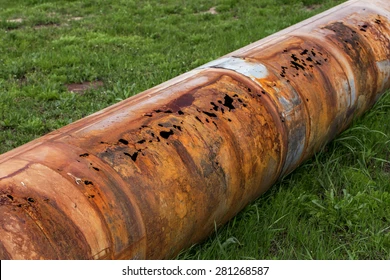hole: (301, 44, 330, 69), (220, 89, 243, 111), (121, 148, 147, 165), (286, 50, 305, 72), (341, 37, 364, 52), (173, 117, 190, 135), (274, 64, 291, 82), (206, 97, 224, 112), (158, 128, 178, 141), (114, 133, 132, 147), (198, 110, 221, 120), (135, 134, 150, 148), (357, 20, 371, 35), (23, 192, 37, 206), (74, 150, 92, 160), (2, 190, 17, 202), (85, 191, 100, 203), (193, 114, 206, 126), (90, 162, 102, 175), (85, 176, 97, 189), (372, 15, 384, 28), (149, 131, 160, 145), (155, 107, 174, 115), (135, 124, 150, 132), (245, 81, 254, 94), (205, 119, 219, 127), (141, 111, 154, 118), (258, 90, 268, 99), (176, 109, 188, 116), (349, 30, 357, 40), (17, 201, 24, 212), (156, 121, 164, 128)
